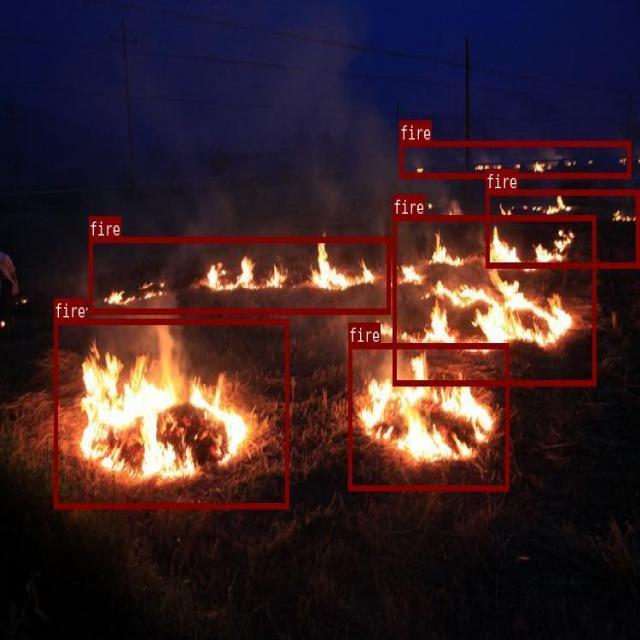fire: (54, 318, 289, 508), (392, 215, 595, 385), (348, 342, 509, 489), (88, 237, 389, 313), (485, 189, 638, 266), (399, 140, 631, 177)
